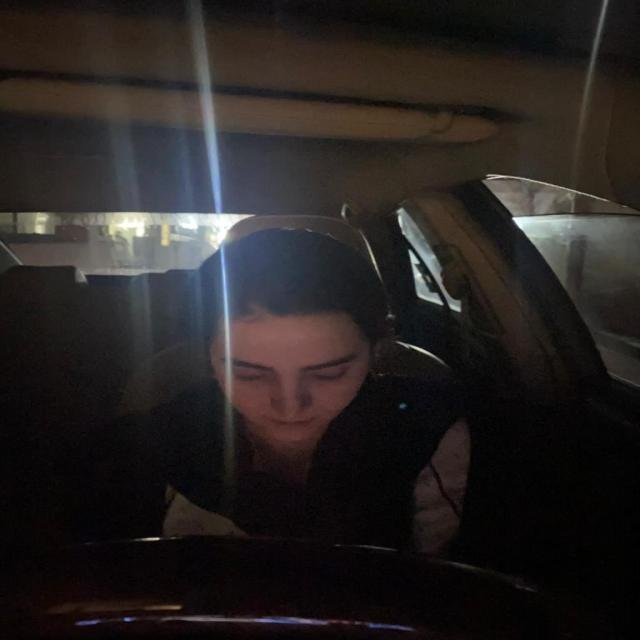drowsy: (178, 270, 404, 452)
